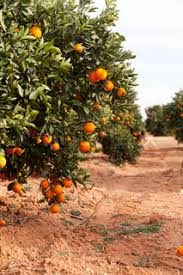orange: (96, 67, 107, 82)
